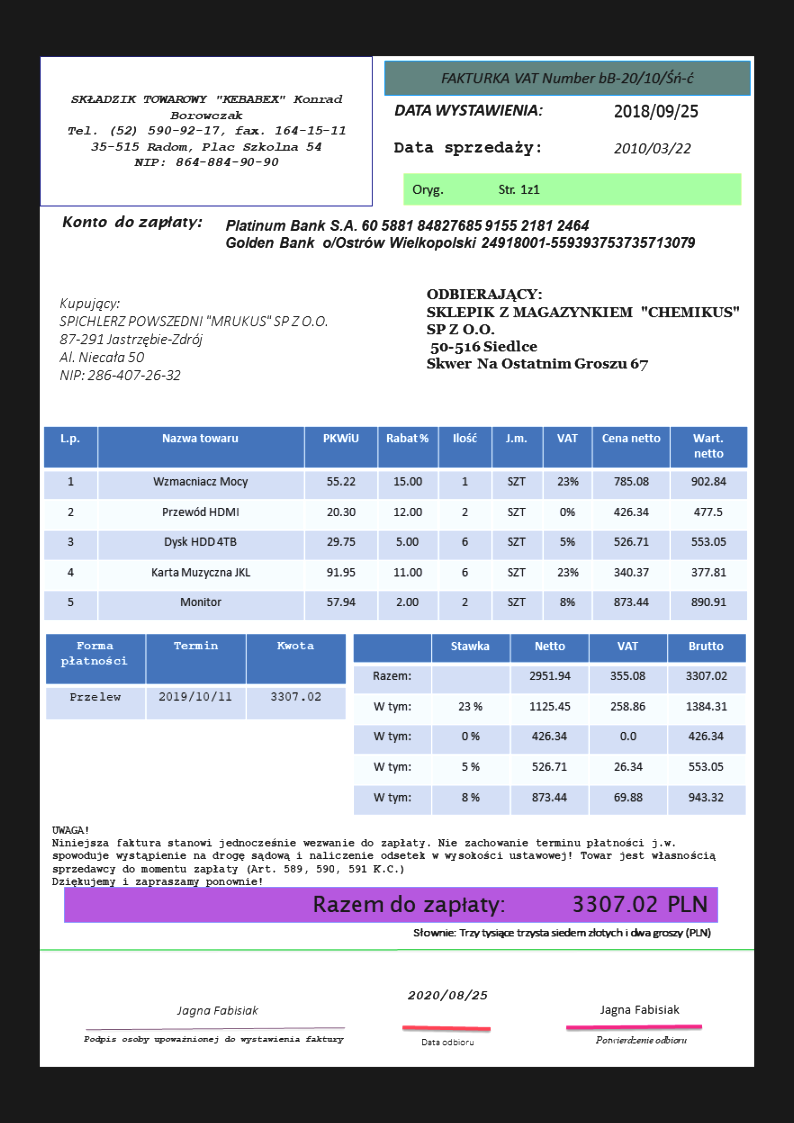Table: (42, 424, 749, 620), (353, 633, 747, 817), (43, 631, 348, 722)
TextBox: (50, 824, 716, 890), (425, 287, 740, 372), (56, 294, 329, 383), (67, 91, 348, 170), (222, 215, 697, 251), (311, 890, 708, 919), (410, 925, 713, 942), (438, 69, 698, 88), (81, 1032, 345, 1046), (392, 137, 544, 159), (59, 213, 204, 233), (392, 101, 546, 119), (410, 181, 542, 199), (611, 100, 700, 121), (593, 1033, 689, 1047), (598, 1002, 680, 1017), (612, 141, 693, 156), (175, 1004, 259, 1017), (406, 989, 490, 1002), (419, 1035, 476, 1049)
